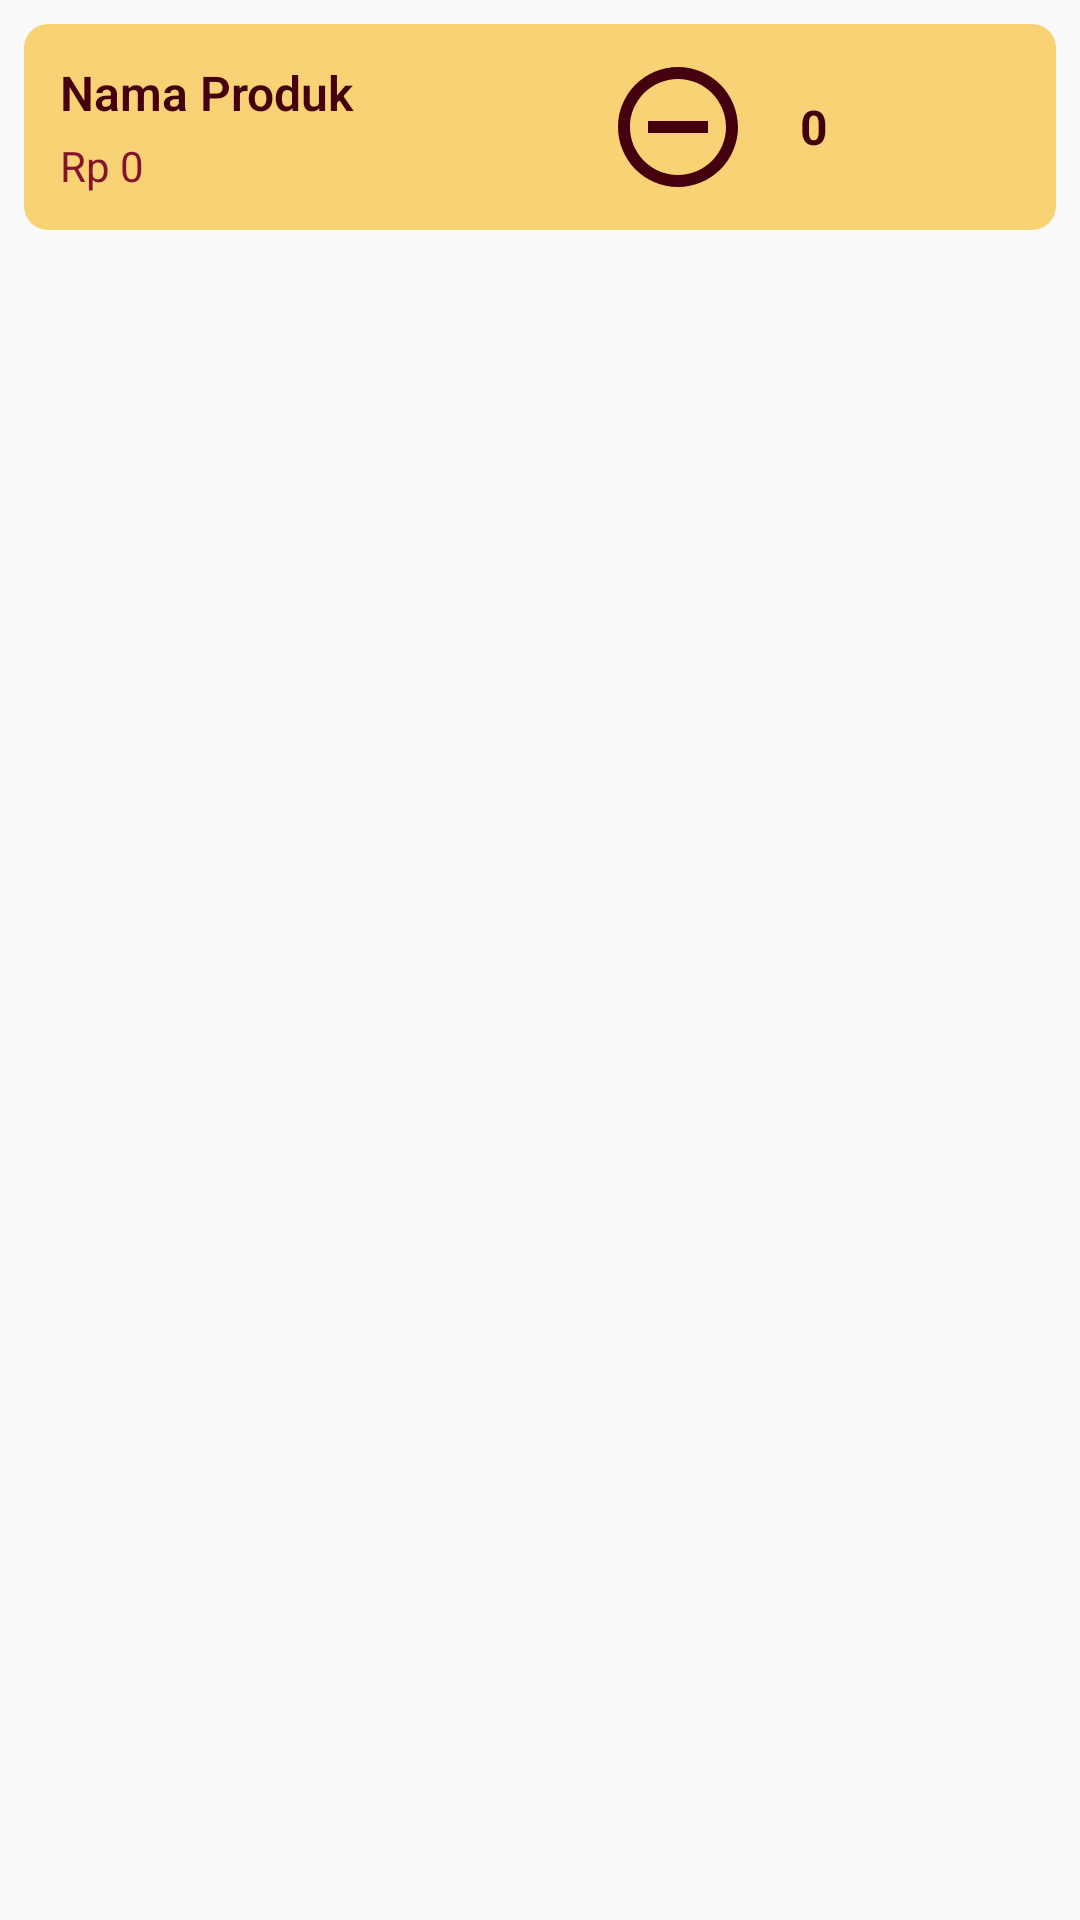

Named icons in this screenshot (1080 × 1920) and their bounding boxes, (x1, y1, x2, y2):
remove circle: (618, 67, 738, 187)
